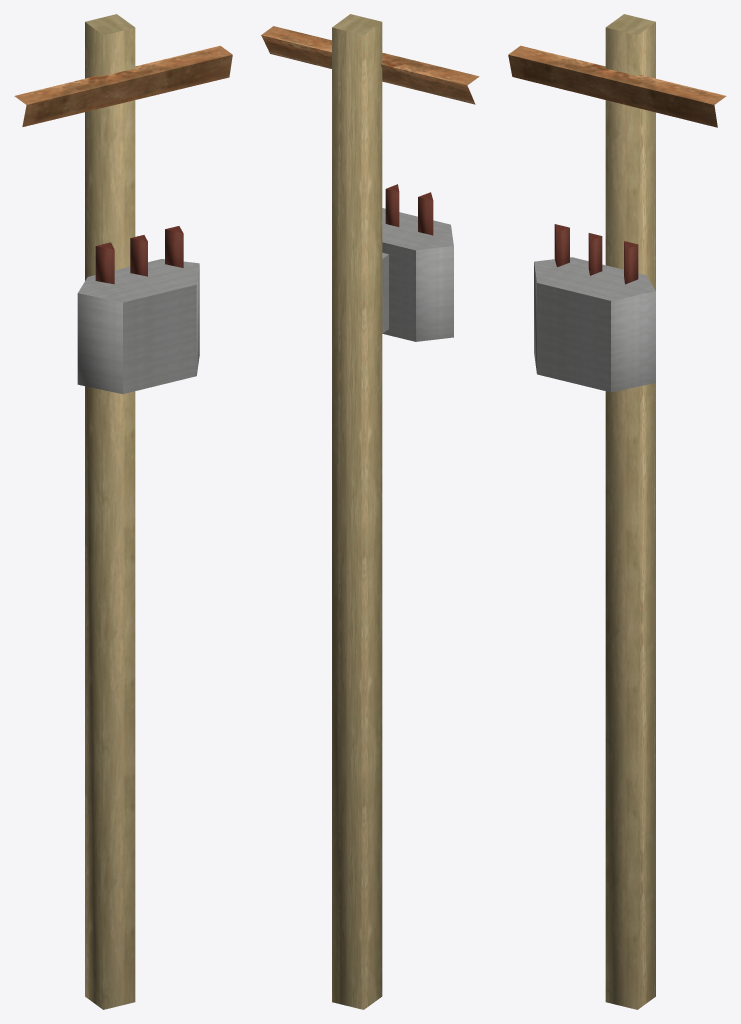
Rendered from power-pole-transformer-cbj_LOD02.gltf.
3 renders of one model, left to right at view 1: azimuth 30°, elevation 25°; view 2: azimuth 150°, elevation 25°; view 3: azimuth 330°, elevation 25°, orthographic.
Parts seen in each view (by area): view 1: power-pole2; view 2: power-pole2; view 3: power-pole2.
Part boxes in pixels (left/top/right/bottom): power-pole2: left=14, top=14, right=232, bottom=1009; power-pole2: left=261, top=14, right=479, bottom=1009; power-pole2: left=508, top=14, right=726, bottom=1009.
Size of the model in its own units: 2.88 by 13 by 1.51.
